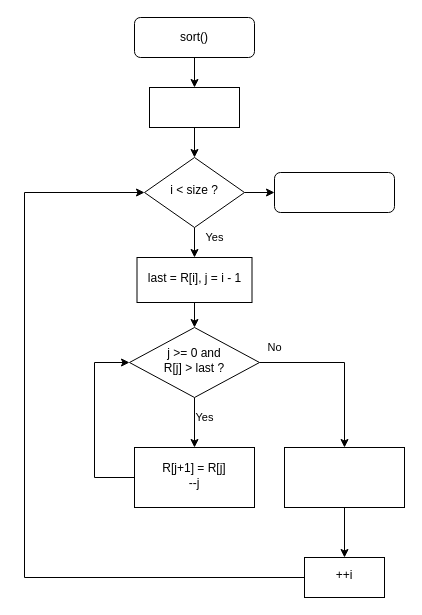
This 422x615 diagram has some shape labels left out. The centre of each missing label's shape, as x and y in pixels:
"i = 1" goes at pixel 194 107.
"R[j + 1] = last" goes at pixel 344 477.
"return" goes at pixel 334 192.
